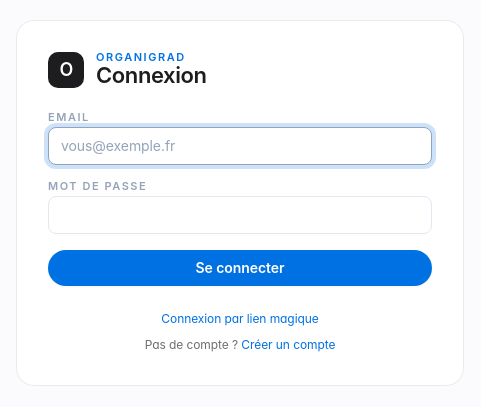
Scenario: AuthScreen — messages d’erreur › explique un mot de passe trop faible
Click the button "Créer un compte": (288, 345) [241,336,335,354]
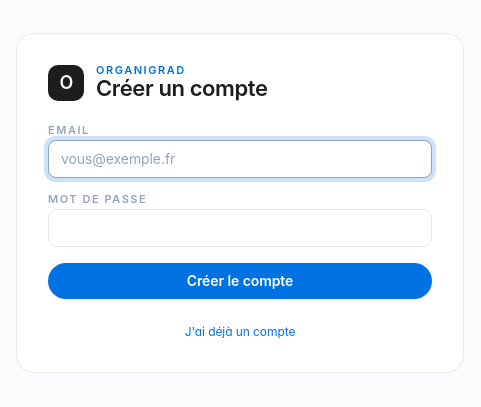
In the field labelled "Email": (240, 159) [48,140,432,178], type "camille@test.fr"
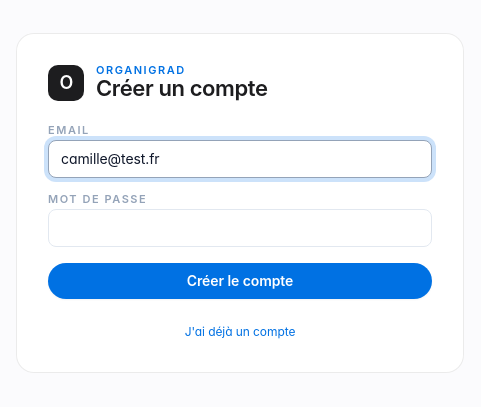
In the password field labelled "Mot de passe": (240, 228) [48,209,432,247], type "court"
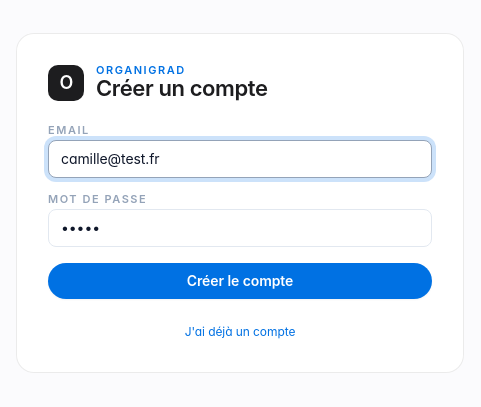
Submit the form "Email Mot de passe Créer le compte", box [48,125,432,299]
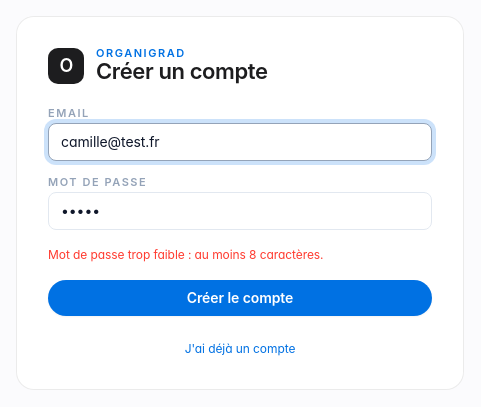
Check: the text "Mot de passe trop faible : au moins 8 caractères." is shown, box [48,247,324,262]
